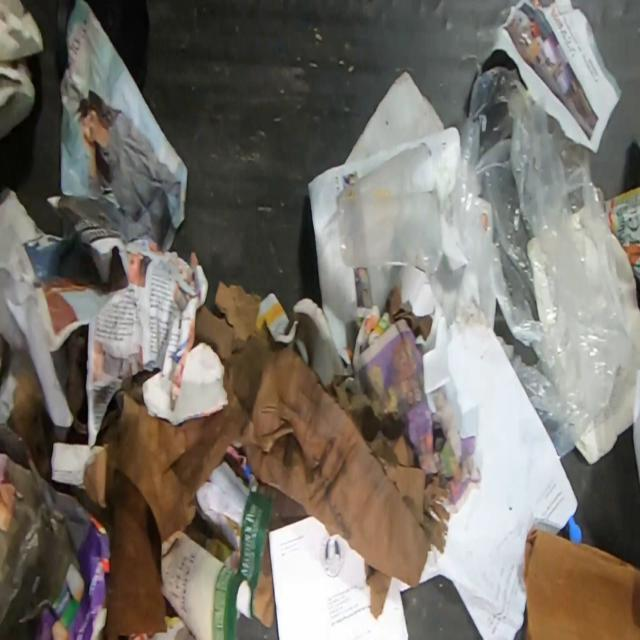cardboard: (522, 524, 640, 640)
rigid_plastic: (337, 144, 443, 272)
soft_plastic: (451, 66, 640, 492)
